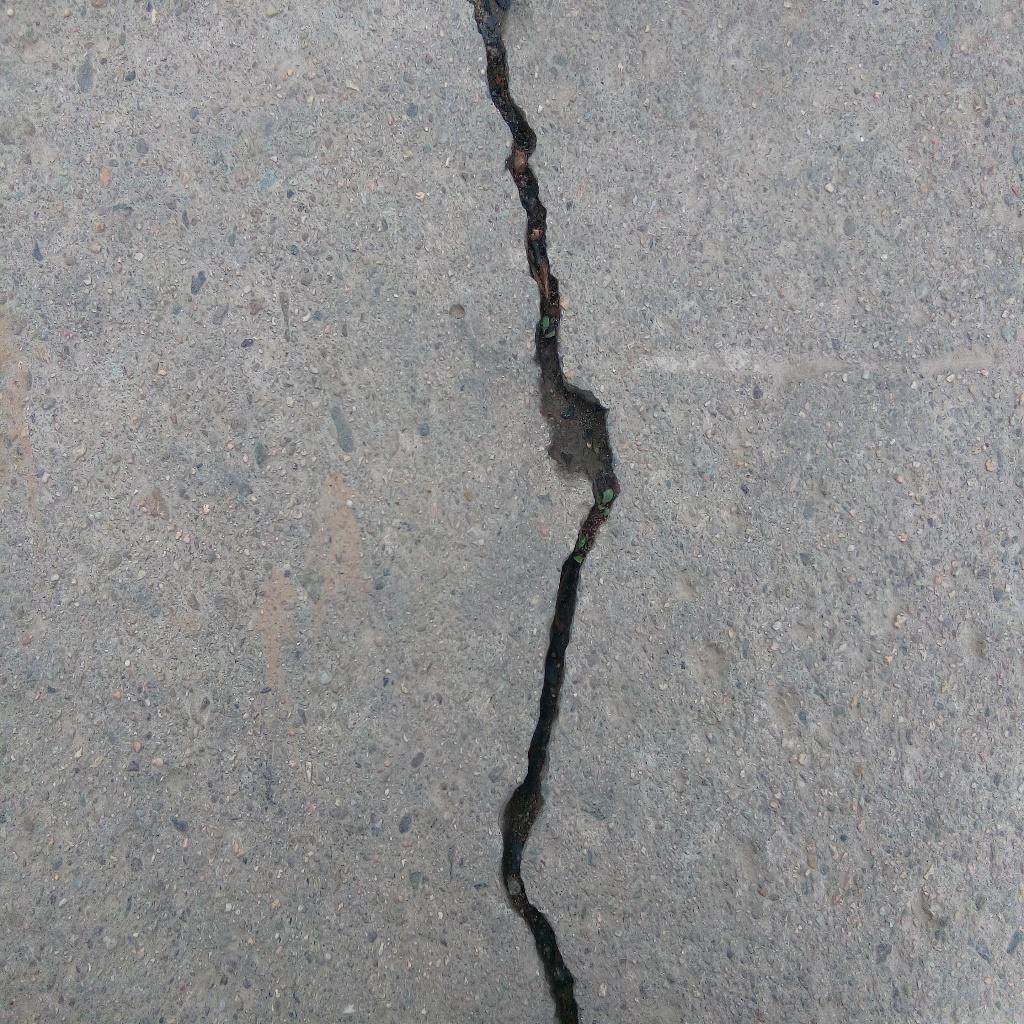Crack: (464, 1, 621, 1024)
